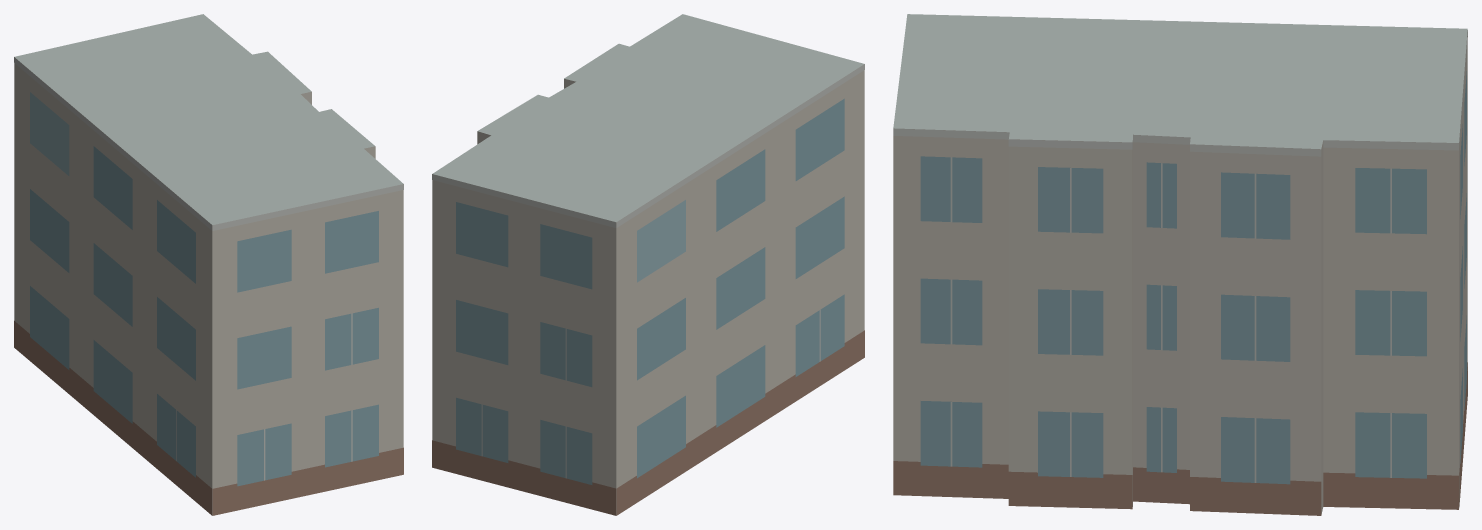
The model's file is survey-upis-32499329.glb.
3 renders of one model, left to right at view 1: azimuth 30°, elevation 25°; view 2: azimuth 150°, elevation 25°; view 3: azimuth 270°, elevation 25°, orthographic. The views are drawn at different scales.
Visible parts, largest first — view 1: survey-upis-32499329.tmp; view 2: survey-upis-32499329.tmp; view 3: survey-upis-32499329.tmp.
Boxes of the visible parts, x1,y1,x2,y2 form: survey-upis-32499329.tmp: (14, 14, 403, 515); survey-upis-32499329.tmp: (432, 14, 864, 515); survey-upis-32499329.tmp: (893, 14, 1467, 515).
Size of the model in its own units: 9.54 by 12.05 by 17.12.
